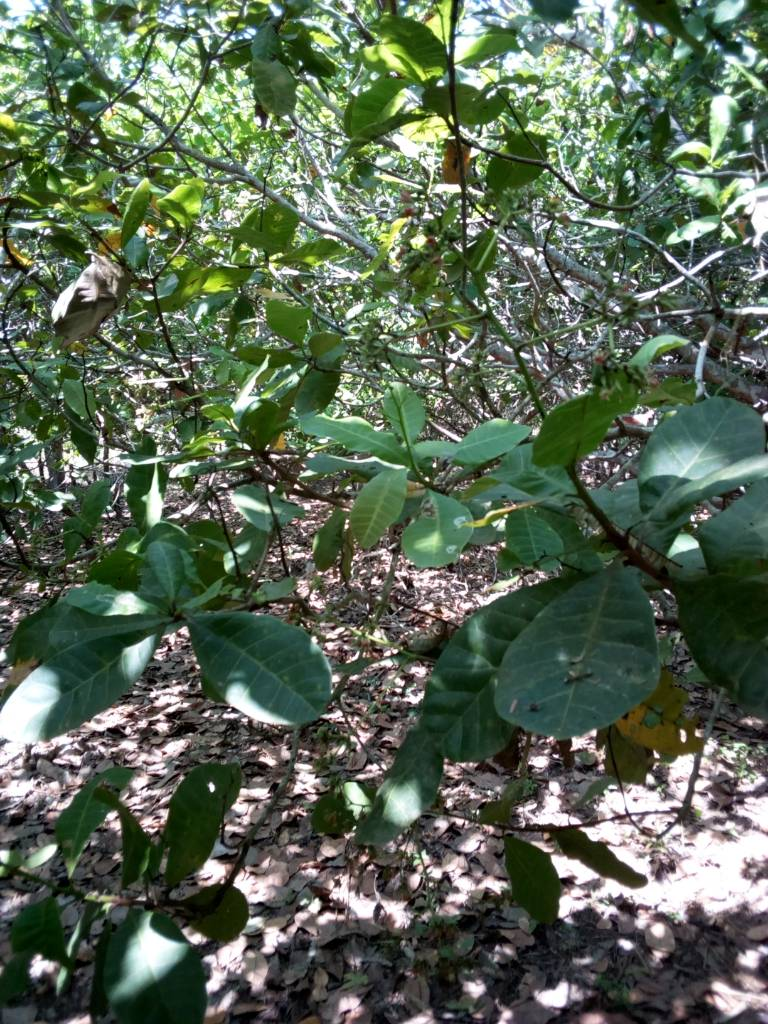Alternariose: (180, 611, 329, 727)
